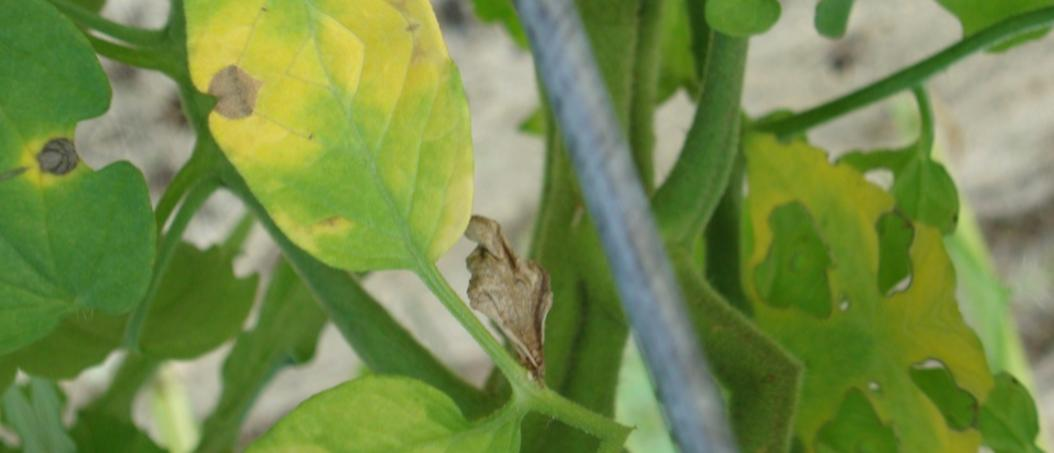Tomato Early blight leaf: (212, 15, 528, 323)
